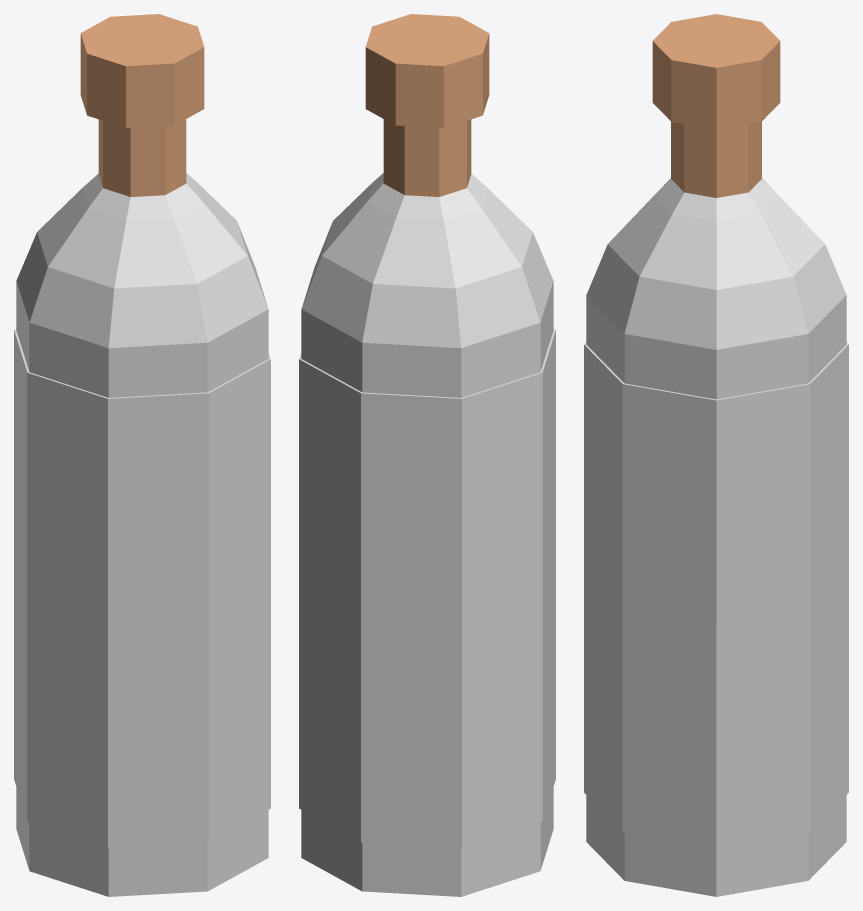
File: Botella_6.fbx
The picture shows the model from 3 angles, left to right: view 1: azimuth 30°, elevation 25°; view 2: azimuth 150°, elevation 25°; view 3: azimuth 270°, elevation 25°; orthographic projection.
Visible parts, largest first — view 1: Botella_6; view 2: Botella_6; view 3: Botella_6.
Part boxes in pixels (x1=…): Botella_6: x1=14, y1=14, x2=270, y2=896; Botella_6: x1=299, y1=14, x2=555, y2=896; Botella_6: x1=584, y1=14, x2=848, y2=896.
Size of the model in its own units: 56.46 by 188 by 56.46.
